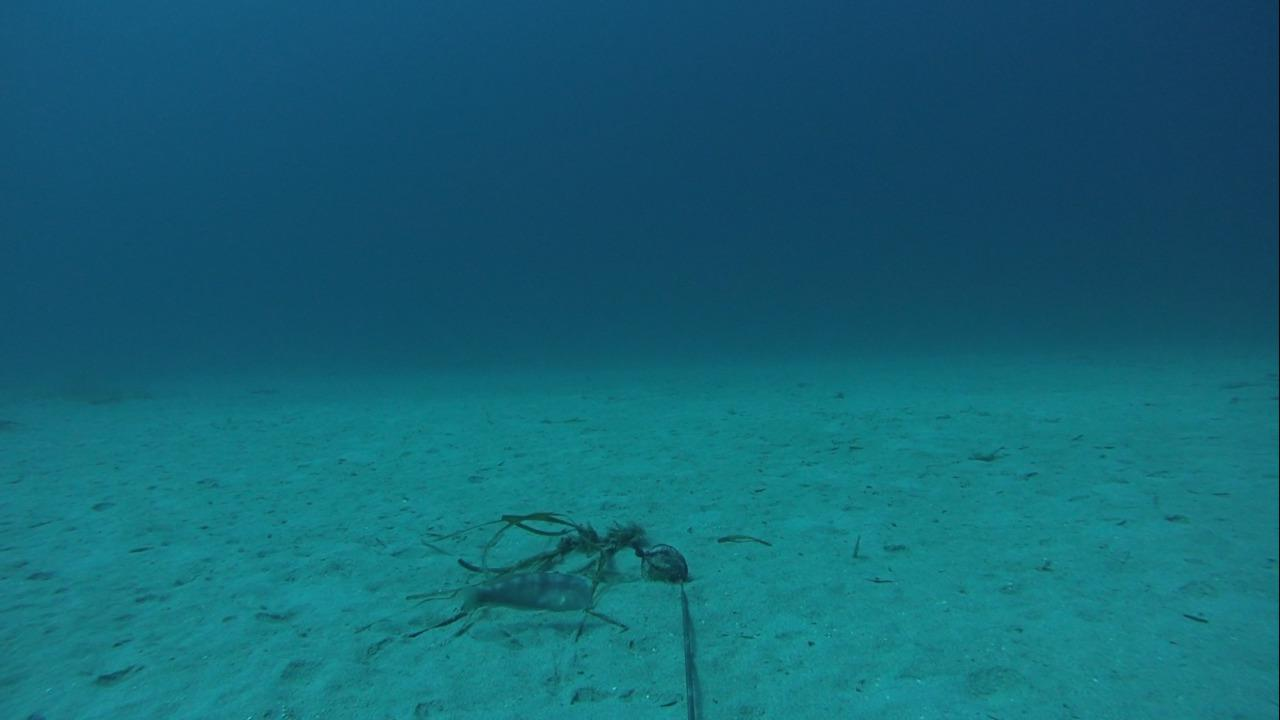raor: (459, 566, 597, 615)
